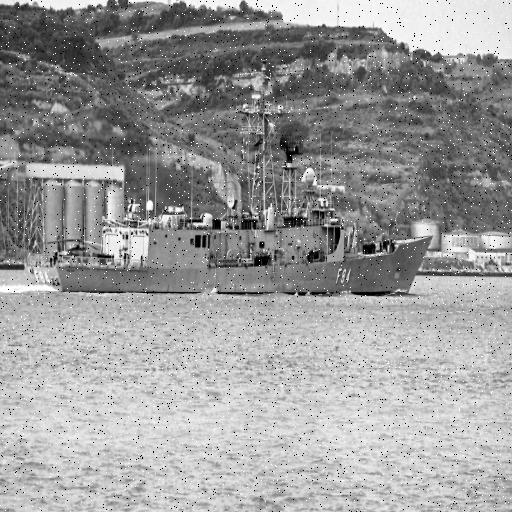Fragata: (25, 54, 434, 300)
